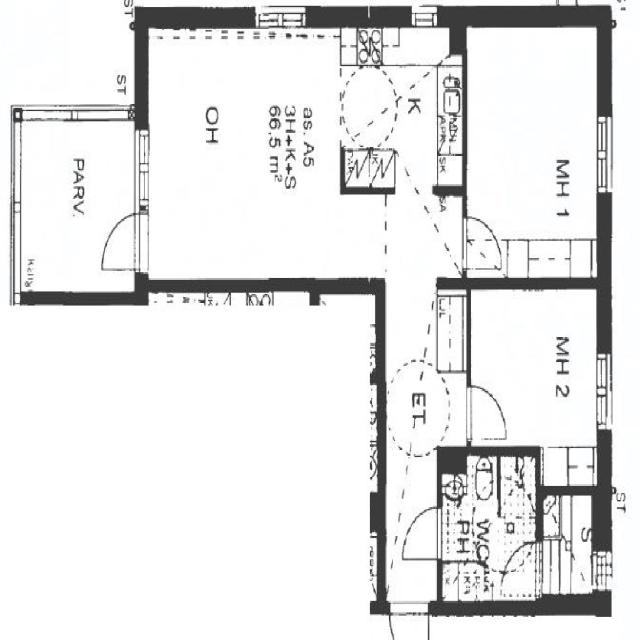door: (142, 29, 360, 284), (11, 112, 145, 299), (462, 378, 509, 442), (400, 504, 446, 564), (459, 212, 500, 262)
window: (131, 120, 155, 218), (6, 120, 28, 216), (594, 109, 616, 202), (594, 349, 616, 435), (252, 8, 309, 34), (17, 102, 74, 122), (409, 6, 442, 30)
zone: (466, 20, 602, 280), (467, 287, 606, 458), (342, 22, 461, 190), (439, 451, 538, 602), (544, 492, 595, 597), (94, 208, 150, 274), (402, 500, 445, 567)
